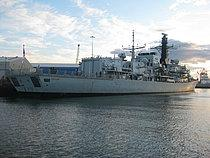MIL_Ship: (7, 35, 199, 97)
